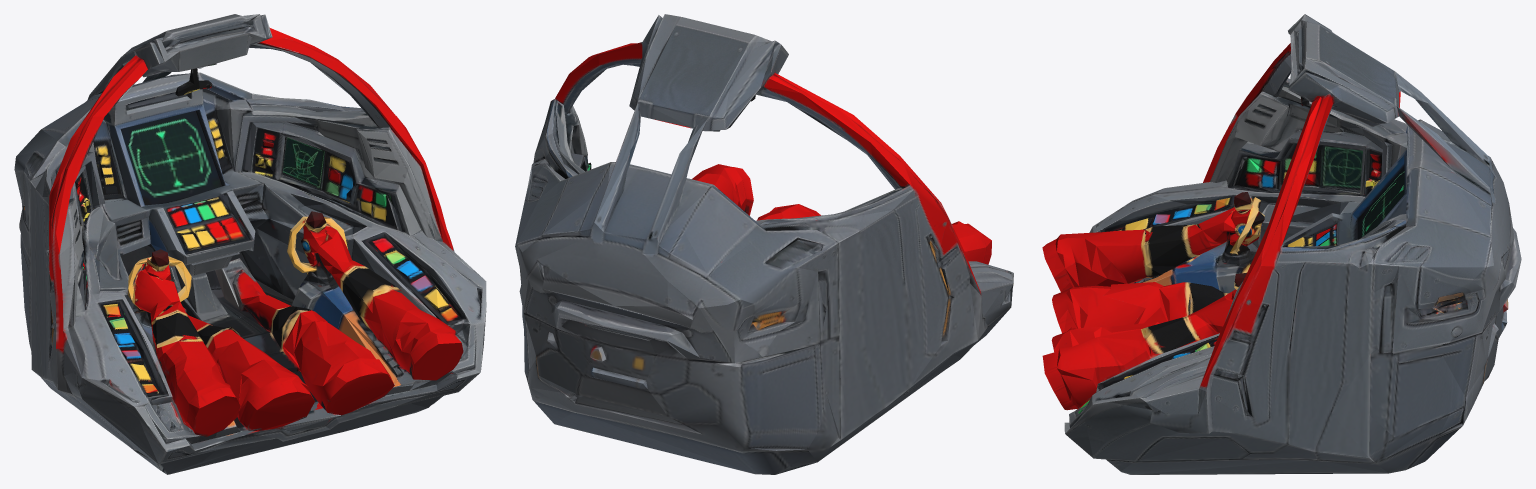
Rendered from cockpit.glb.
3 renders of one model, left to right at view 1: azimuth 30°, elevation 25°; view 2: azimuth 150°, elevation 25°; view 3: azimuth 270°, elevation 25°, orthographic. The views are drawn at different scales.
Visible parts, largest first — view 1: output_unwrapped; view 2: output_unwrapped; view 3: output_unwrapped.
Boxes of the visible parts, x1,y1,x2,y2 form: output_unwrapped: (14,14,486,474); output_unwrapped: (515,14,1013,474); output_unwrapped: (1042,14,1521,474).
Size of the model in its own units: 1.9 by 1.61 by 1.88.
Materials: 1 (1 with a texture image).
